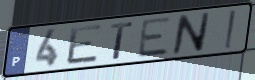4: (33, 27, 61, 69)
E: (66, 22, 105, 67), (136, 15, 174, 60)
I: (223, 8, 237, 51)
N: (170, 11, 212, 56)
T: (109, 20, 135, 60)
